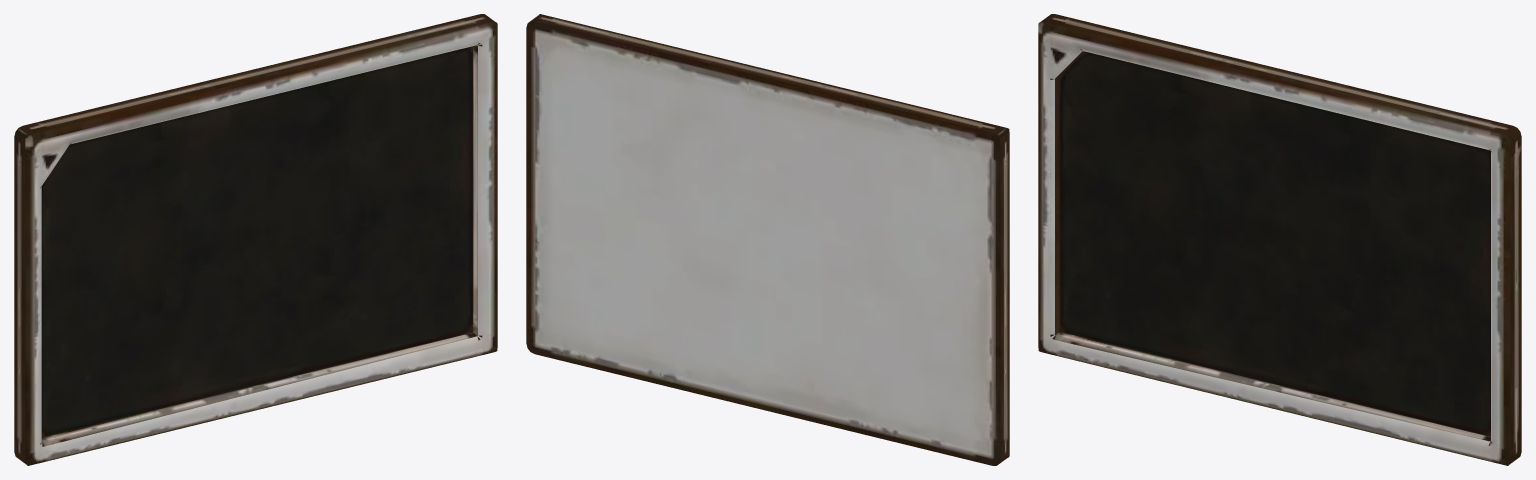
Rendered from wall-screen.glb.
3 renders of one model, left to right at view 1: azimuth 30°, elevation 25°; view 2: azimuth 150°, elevation 25°; view 3: azimuth 330°, elevation 25°, orthographic.
Parts seen in each view (by area): view 1: Object_2; view 2: Object_2; view 3: Object_2.
Part boxes in pixels (<box>): Object_2: <box>14,14,497,465</box>; Object_2: <box>526,14,1009,465</box>; Object_2: <box>1038,14,1521,465</box>.
Bounding box in the file's own units: 2.99 × 2.01 × 0.1317.
1 material, 1 textured.
